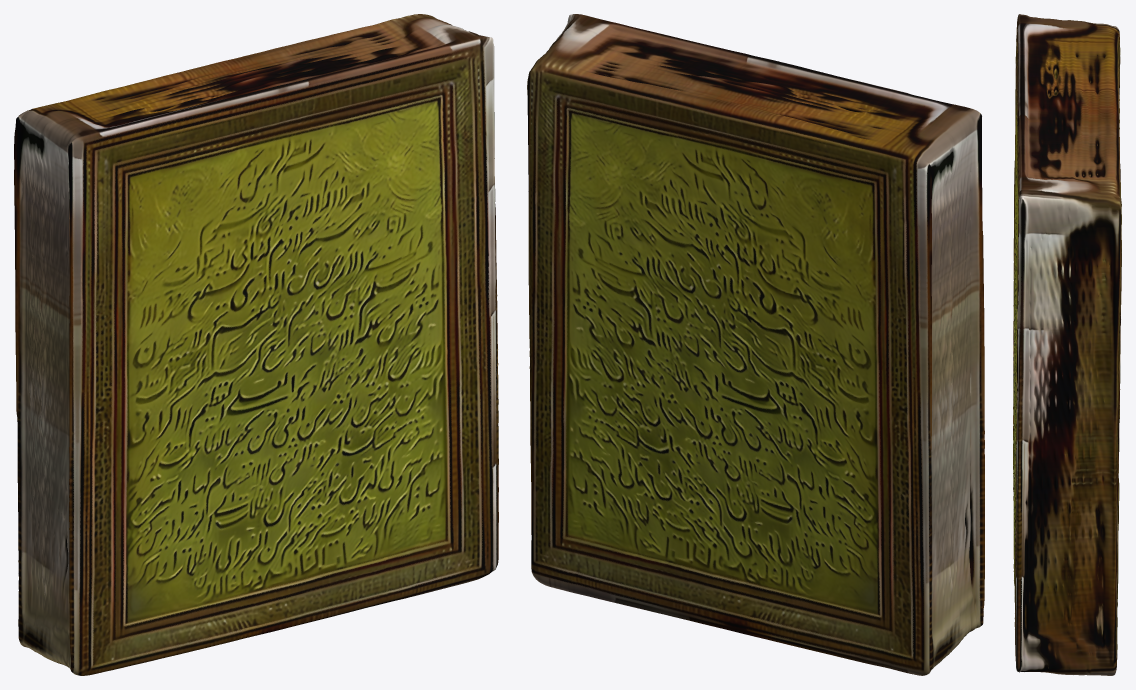
Rendered from kfl-2277.glb.
3 renders of one model, left to right at view 1: azimuth 30°, elevation 25°; view 2: azimuth 150°, elevation 25°; view 3: azimuth 270°, elevation 25°, orthographic. The views are drawn at different scales.
Visible parts, largest first — view 1: kfl-2277; view 2: kfl-2277; view 3: kfl-2277.
Boxes of the visible parts, <box> form: kfl-2277: <box>14,14,498,675</box>; kfl-2277: <box>527,14,984,675</box>; kfl-2277: <box>1013,14,1121,675</box>.
Size of the model in its own units: 0.814 by 0.9969 by 0.1998.
Materials: 1 (1 with a texture image).
